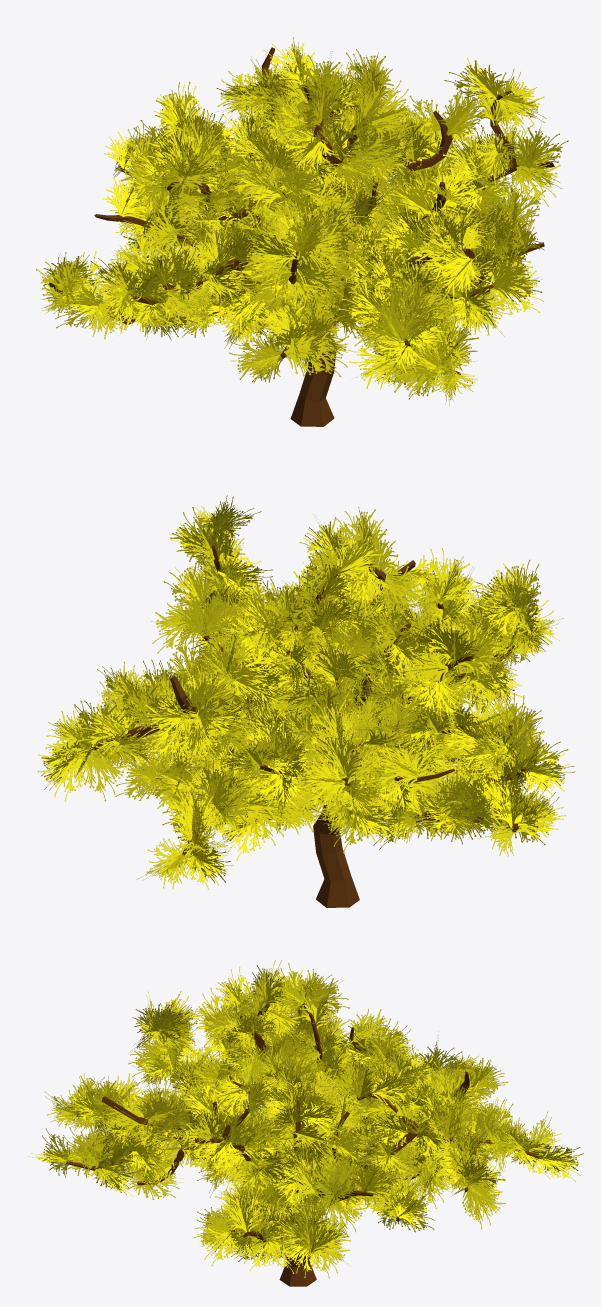
The model's file is CornusMasTry2.fbx.
3 renders of one model, top to bottom at view 1: azimuth 30°, elevation 25°; view 2: azimuth 150°, elevation 25°; view 3: azimuth 270°, elevation 25°, orthographic. The views are drawn at different scales.
Parts seen in each view (by area): view 1: CornusMasLeave 2ndColor.127, Cornus Mas Base; view 2: CornusMasLeave 2ndColor.127, Cornus Mas Base; view 3: CornusMasLeave 2ndColor.127, Cornus Mas Base.
Boxes of the visible parts, left/top/right/bottom form: CornusMasLeave 2ndColor.127: left=36, top=37, right=568, bottom=406; Cornus Mas Base: left=48, top=47, right=554, bottom=426; CornusMasLeave 2ndColor.127: left=37, top=495, right=574, bottom=889; Cornus Mas Base: left=85, top=513, right=525, bottom=907; CornusMasLeave 2ndColor.127: left=28, top=960, right=583, bottom=1278; Cornus Mas Base: left=66, top=1002, right=540, bottom=1286.
Size of the model in its own units: 924 by 672 by 1072.
